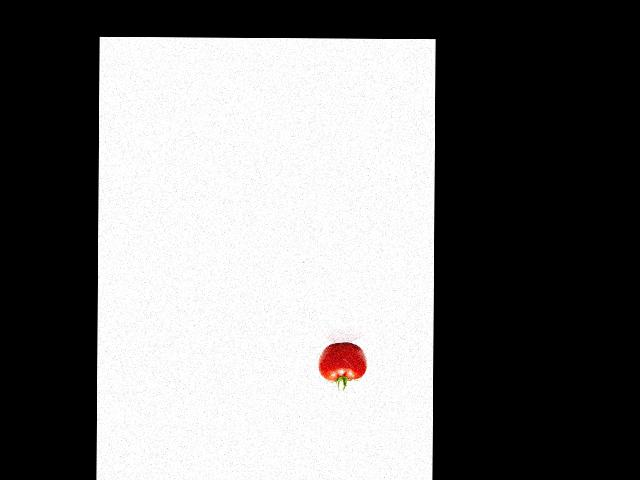tomato: (318, 342, 367, 381)
